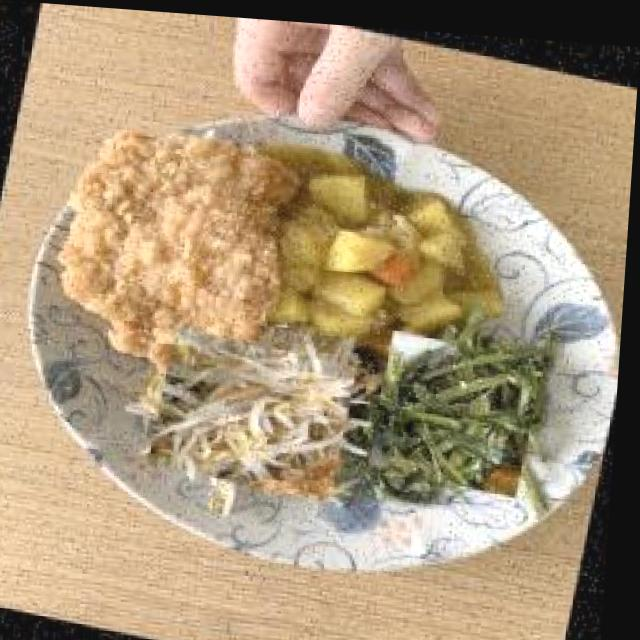curry: (267, 150, 526, 367)
fried_chicken: (58, 114, 297, 351)
mung_bean_sprouts: (153, 323, 367, 500)
water_spinach: (371, 323, 549, 491)
